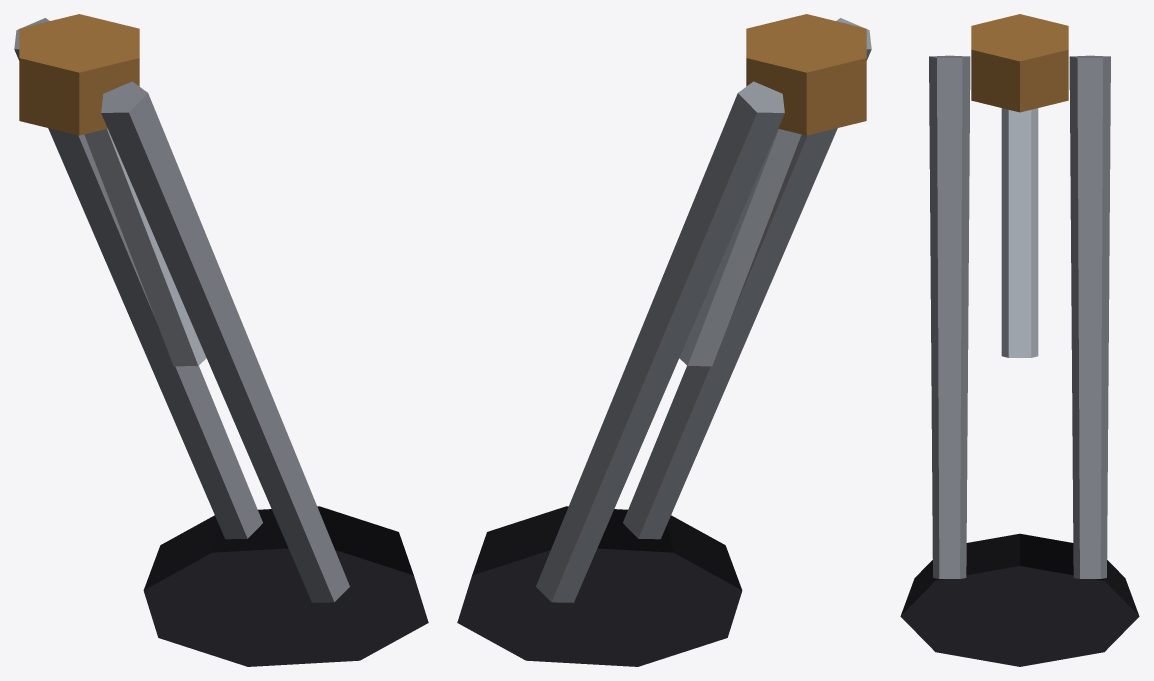
The model's file is ship_landing_strut.obj.
3 renders of one model, left to right at view 1: azimuth 30°, elevation 25°; view 2: azimuth 150°, elevation 25°; view 3: azimuth 270°, elevation 25°, orthographic. The views are drawn at different scales.
Parts seen in each view (by area): view 1: struts, pad, boss, damper; view 2: struts, pad, boss, damper; view 3: struts, pad, damper, boss.
Part boxes in pixels (x1=…): struts: x1=14, y1=18, x2=349, y2=602; pad: x1=143, y1=506, x2=428, y2=666; boss: x1=19, y1=14, x2=139, y2=135; damper: x1=84, y1=128, x2=206, y2=366; struts: x1=536, y1=18, x2=871, y2=602; pad: x1=457, y1=506, x2=742, y2=666; boss: x1=746, y1=14, x2=866, y2=135; damper: x1=679, y1=128, x2=801, y2=366; struts: x1=929, y1=55, x2=1110, y2=578; pad: x1=900, y1=533, x2=1139, y2=666; damper: x1=1001, y1=108, x2=1038, y2=357; boss: x1=971, y1=14, x2=1068, y2=112.
Size of the model in its own units: 1.05 by 1.56 by 0.68.
